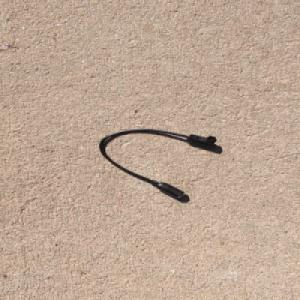Wire: (98, 127, 219, 200)
